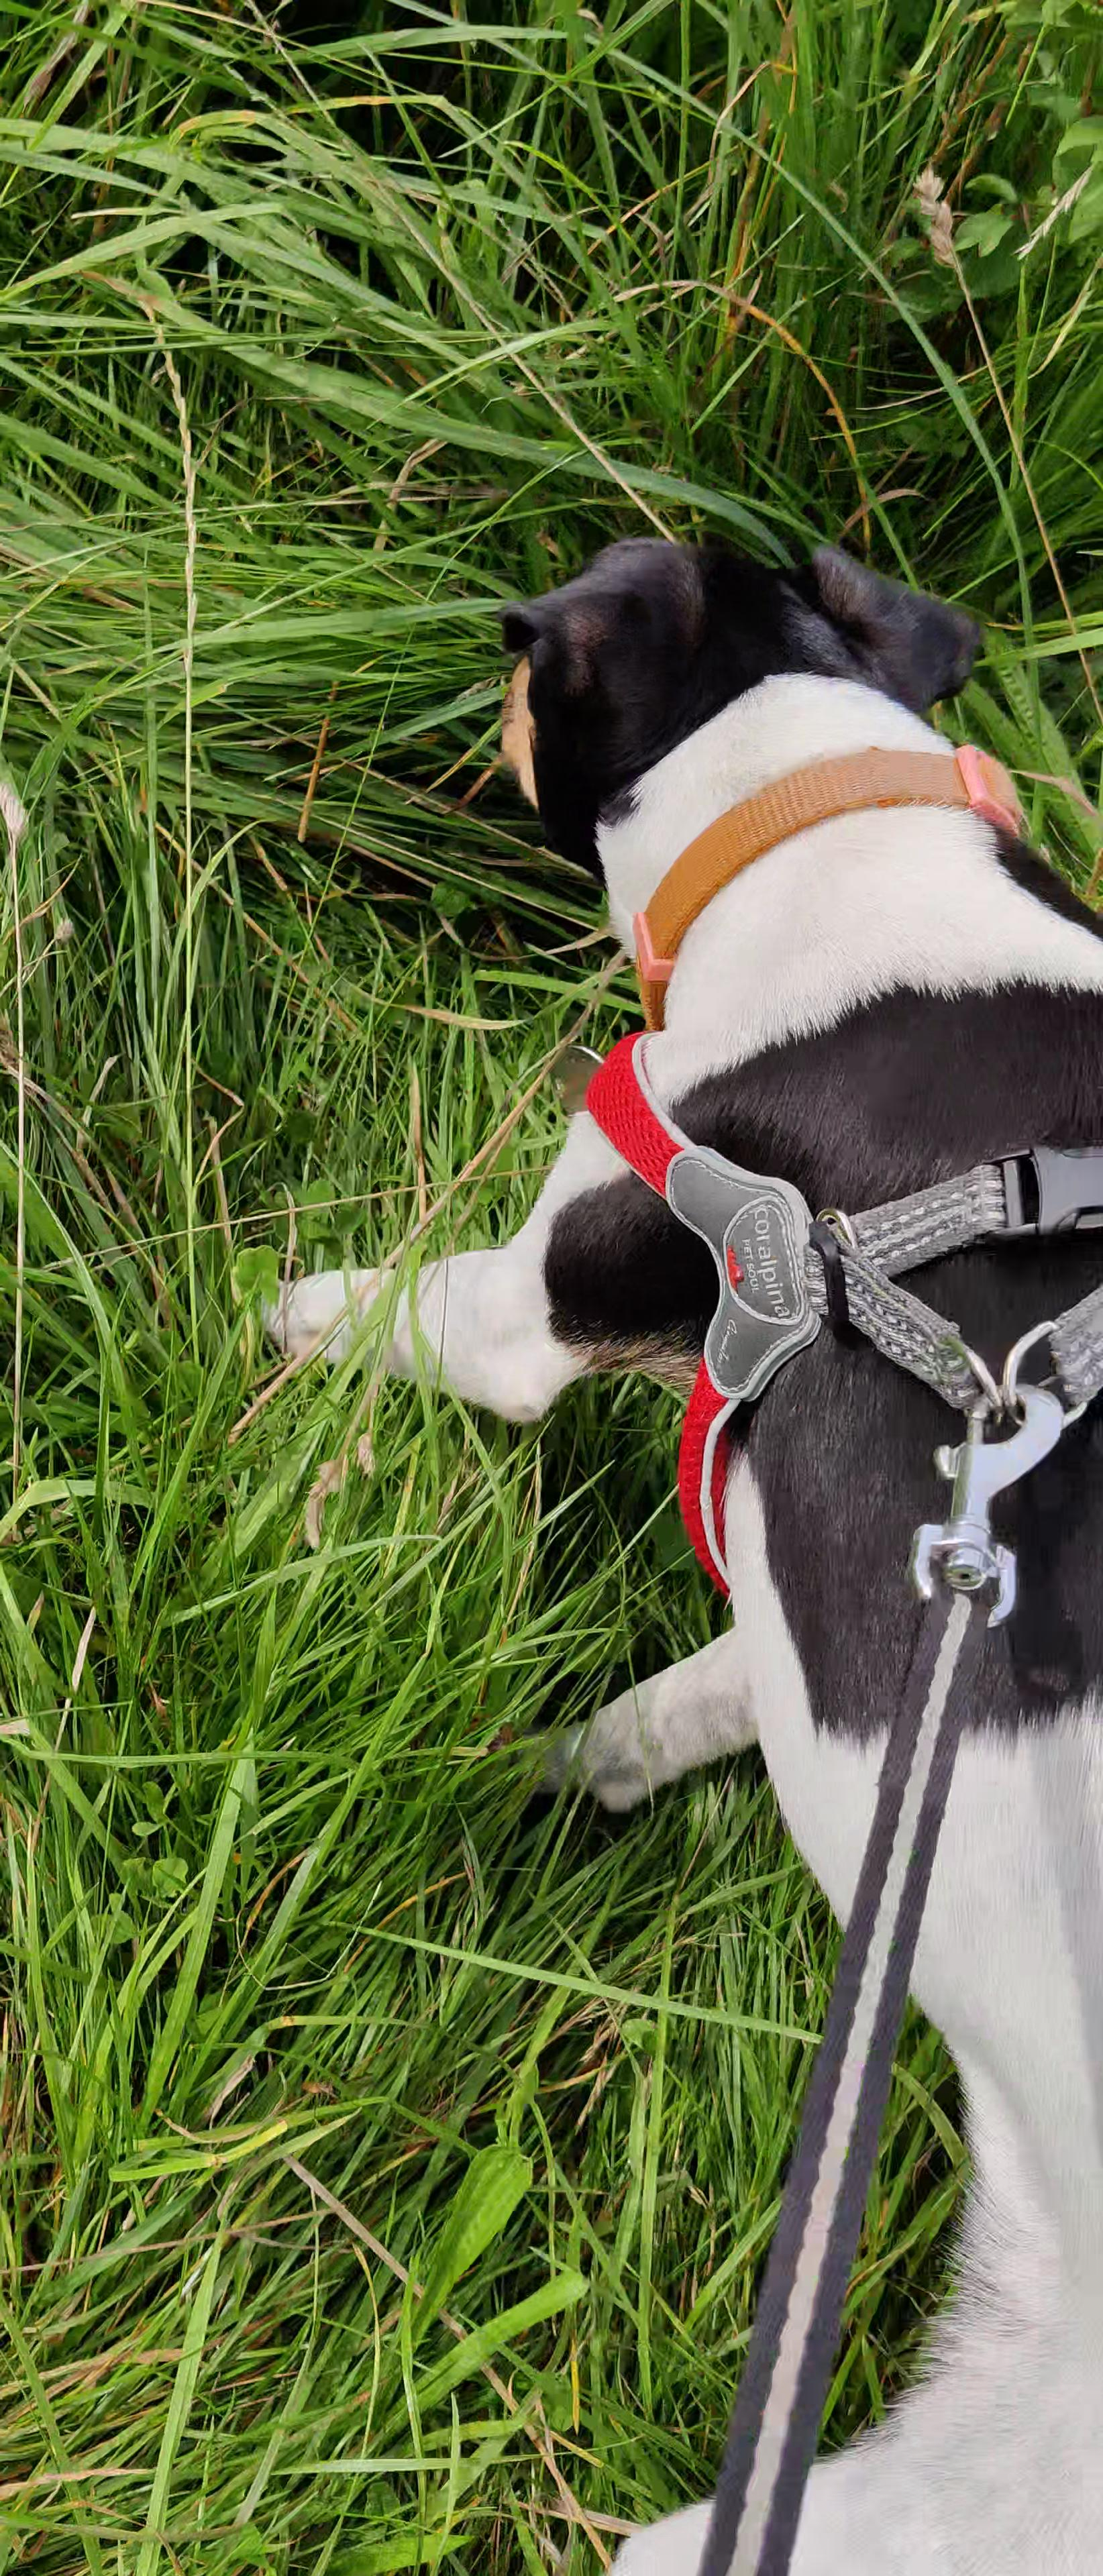Dog: (243, 463, 1103, 2576)
